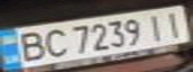2: (87, 20, 112, 52)
3: (106, 18, 130, 50)
7: (69, 21, 93, 55)
9: (121, 15, 148, 46)
B: (9, 28, 51, 63)
C: (39, 26, 72, 59)
I: (157, 8, 190, 38), (142, 10, 172, 42)
